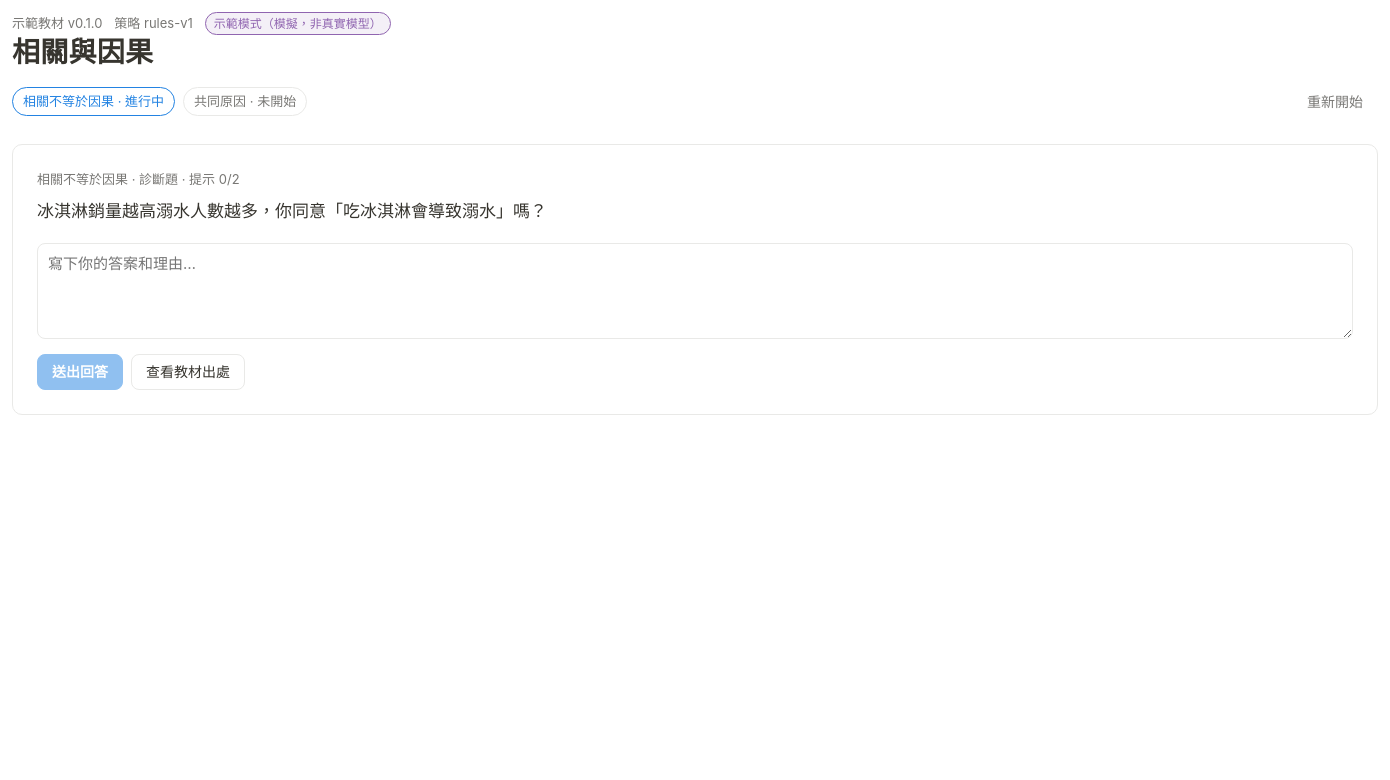
Scenario: LearnPage › submits an answer and shows the tutor hint
Expected: the element with test id "question" shows "冰淇淋", [37,201,547,221]
Type "兩者一起發生" into the text box named "你的回答" at [695, 291], box [37,243,1353,339]
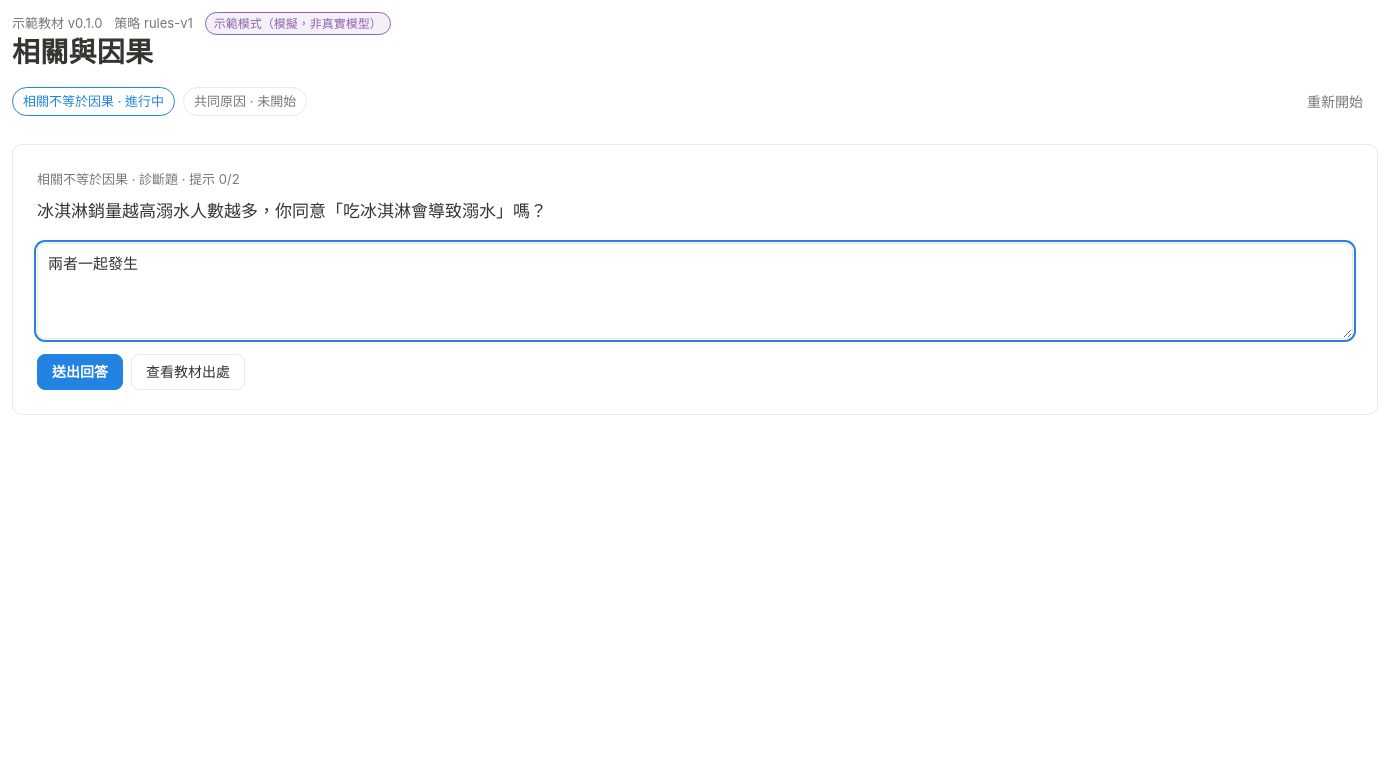
Click the button "送出回答" at [80, 372], box [37,354,123,390]
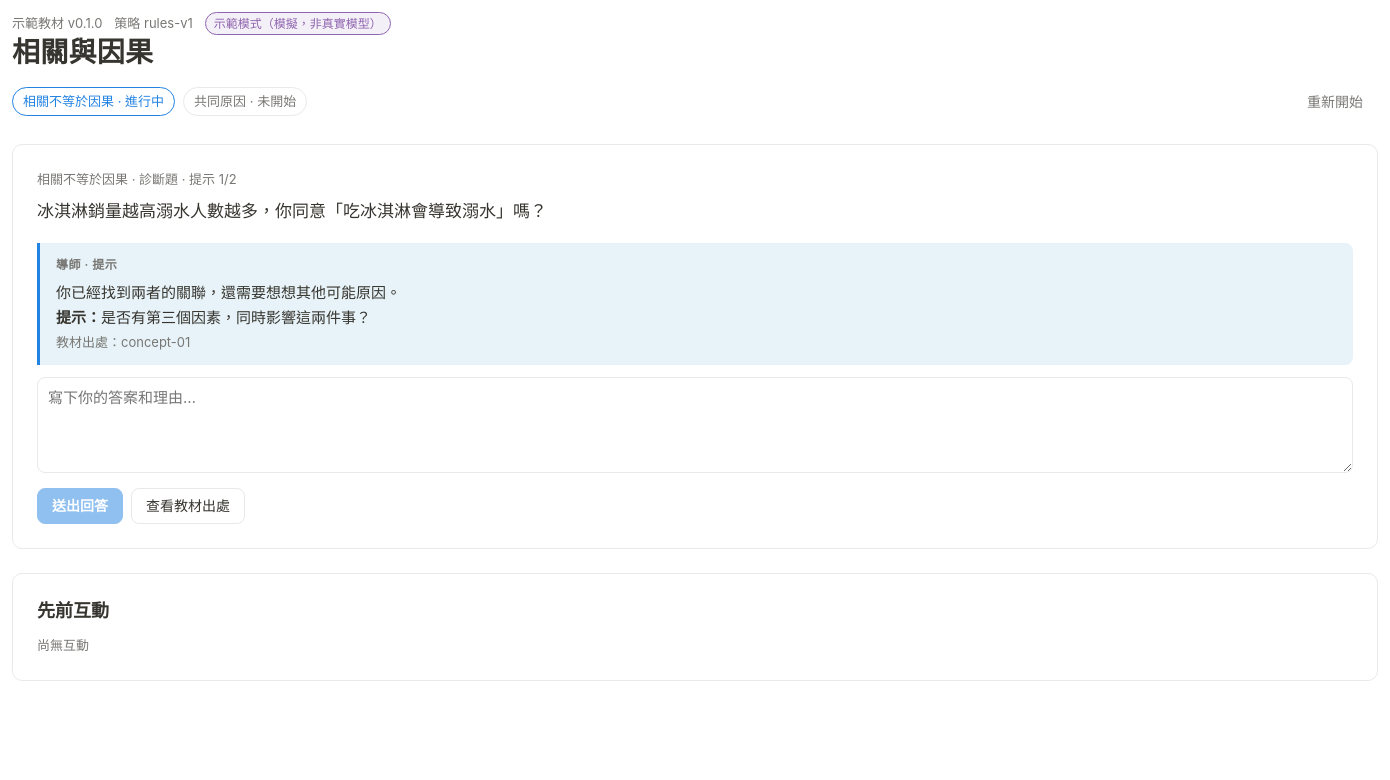
Expected: the element with test id "tutor-message" shows "是否有第三個因素", [101,308,371,327]
Expected: the element with test id "tutor-message" shows "教材出處：concept-01", [56,334,190,350]
Expected: the text box named "你的回答" is empty, [37,377,1353,473]
